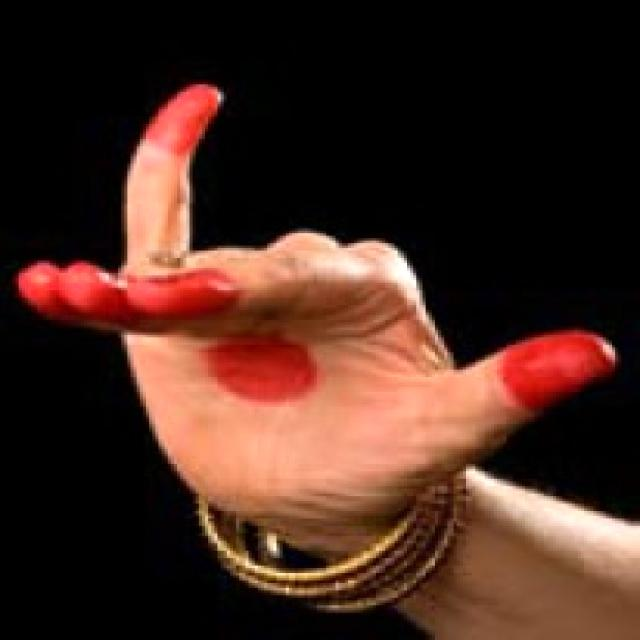Mrigashirsha: (11, 54, 628, 580)
